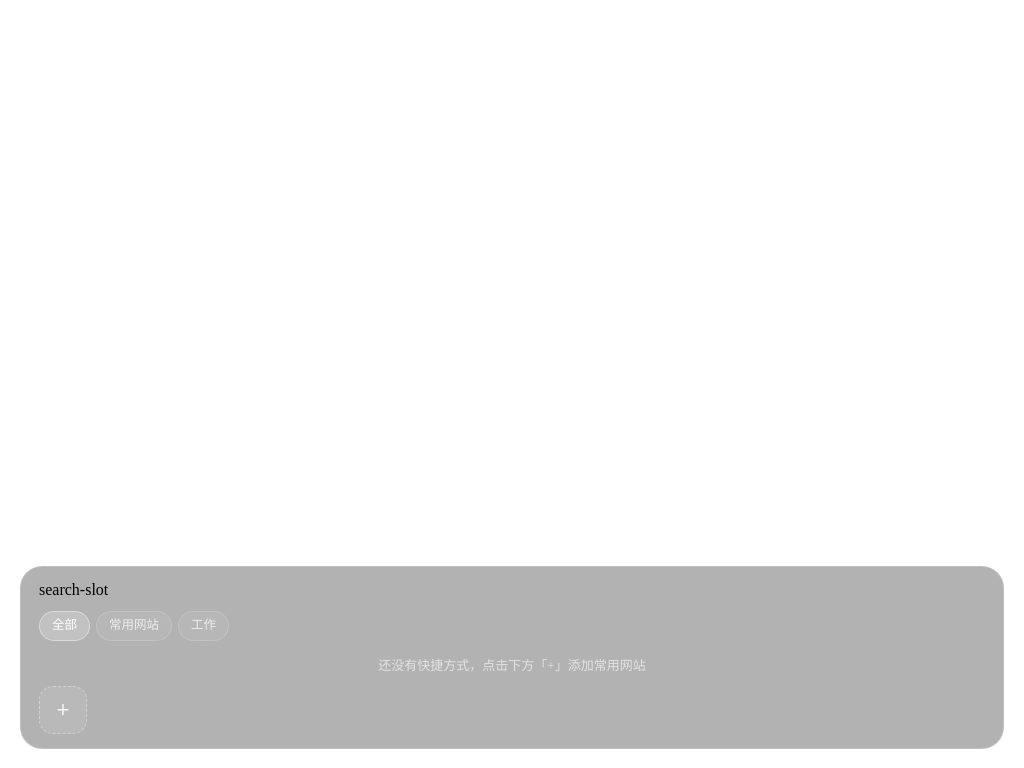
Scenario: ShortcutDock 右键菜单（0003 改善 1/2） › 右键分组可重命名（内联输入 Enter 确认）
Right-click the button "工作" at (204, 626), box [178, 611, 229, 641]
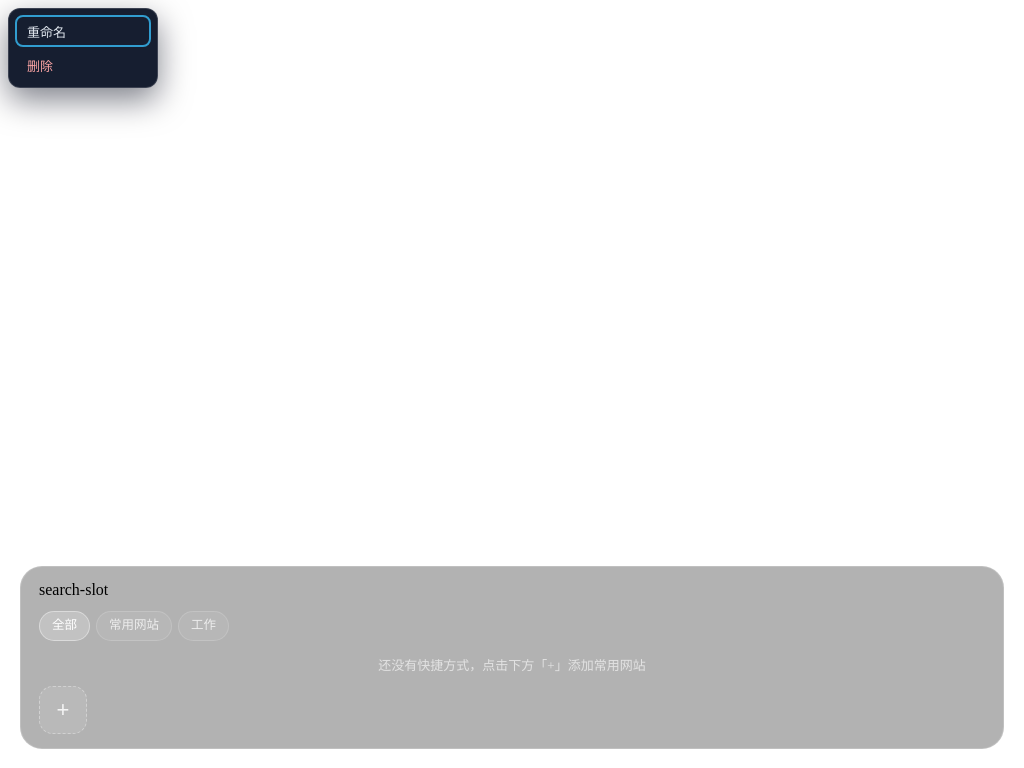
Click the menu item "重命名" at (83, 31), box [15, 15, 151, 47]
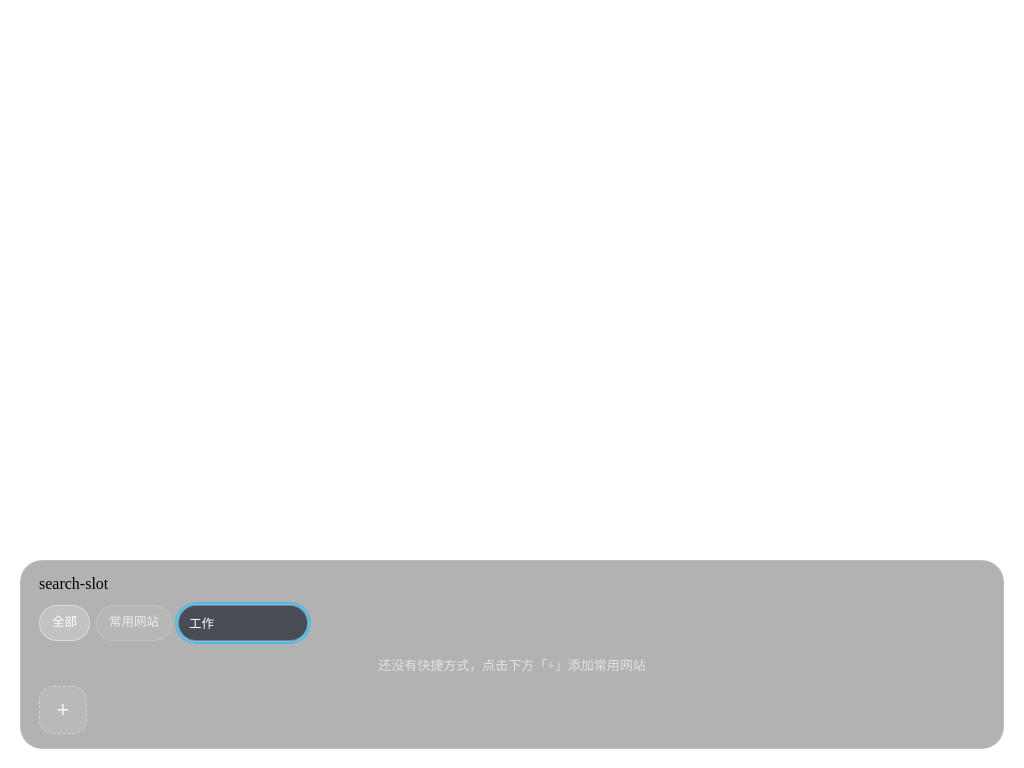
expect the field named "重命名分组 工作" holds "工作": met
Replace the text in the field named "重命名分组 工作" with "工作日" at (243, 623), box [178, 605, 308, 641]
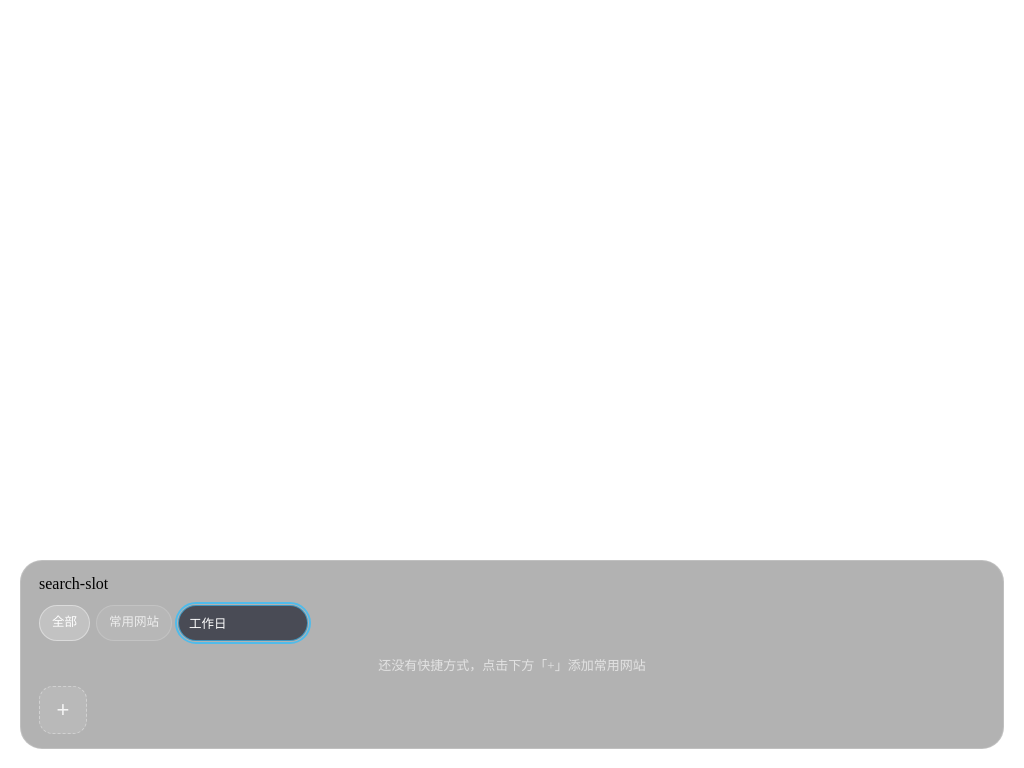
Press Enter in the field named "重命名分组 工作", box [178, 605, 308, 641]
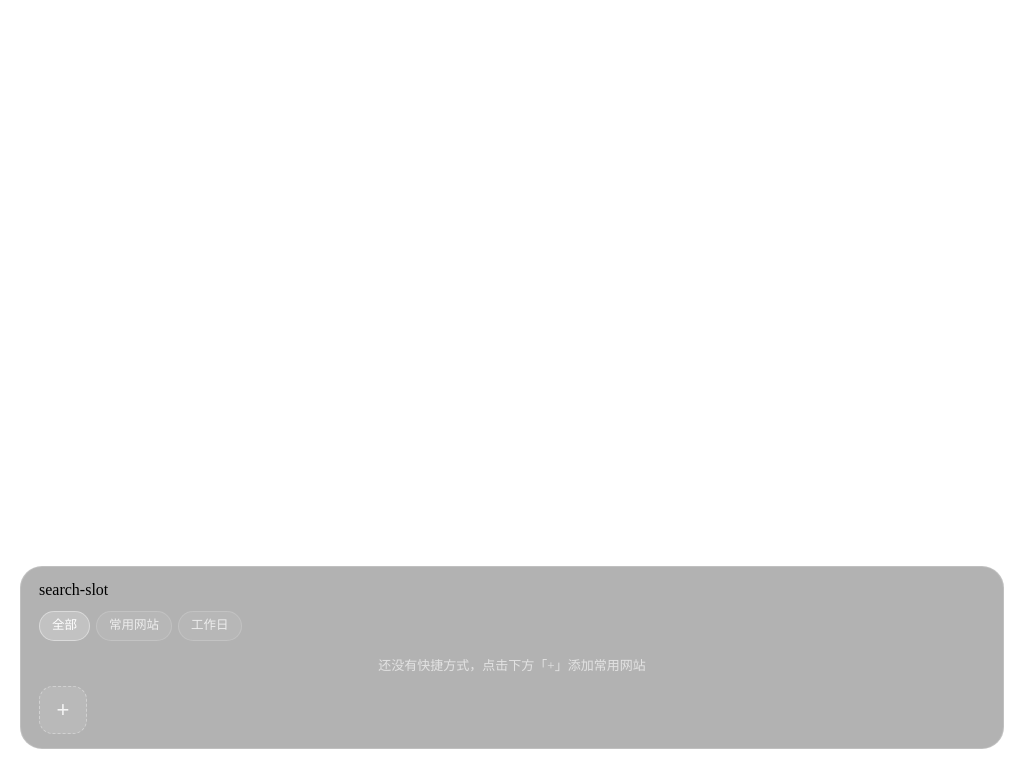
expect the button "工作日" is shown: met, box [178, 611, 242, 641]
